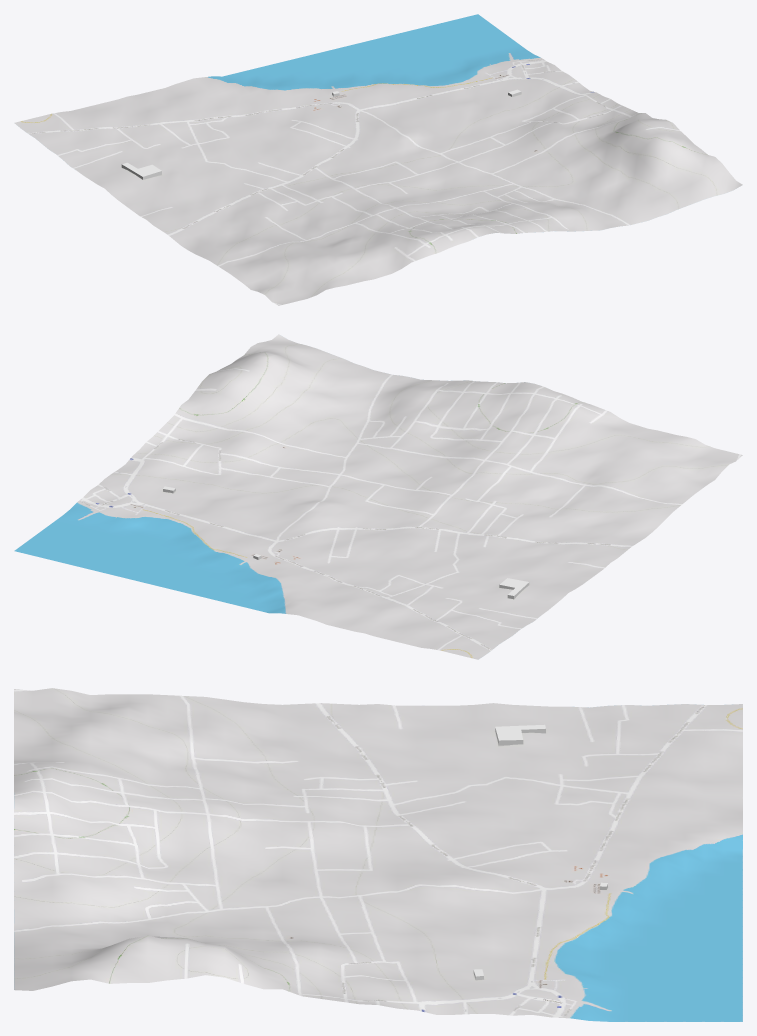
The model's file is sampleModel.glb.
3 renders of one model, top to bottom at view 1: azimuth 30°, elevation 25°; view 2: azimuth 150°, elevation 25°; view 3: azimuth 270°, elevation 25°, orthographic. The views are drawn at different scales.
Visible parts, largest first — view 1: TerrainNode; view 2: TerrainNode; view 3: TerrainNode.
Boxes of the visible parts, x1,y1,x2,y2 form: TerrainNode: (14, 14, 742, 305); TerrainNode: (14, 334, 742, 659); TerrainNode: (14, 688, 742, 1021).
Bounding box in the file's own units: 1515 × 138 × 1498.
2 materials, 1 textured.
